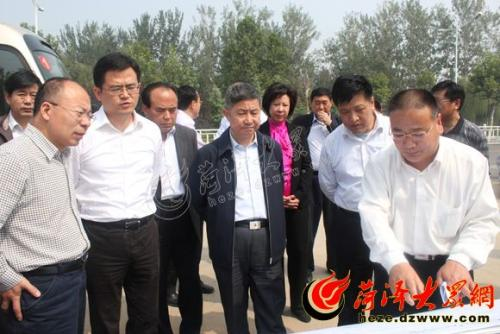boots: (291, 306, 311, 323), (165, 291, 179, 306), (199, 279, 214, 292)
person: (357, 87, 500, 322), (66, 51, 165, 333), (188, 80, 291, 333), (1, 76, 93, 333), (317, 73, 393, 326), (139, 80, 205, 333), (256, 81, 314, 322), (289, 86, 342, 283)
